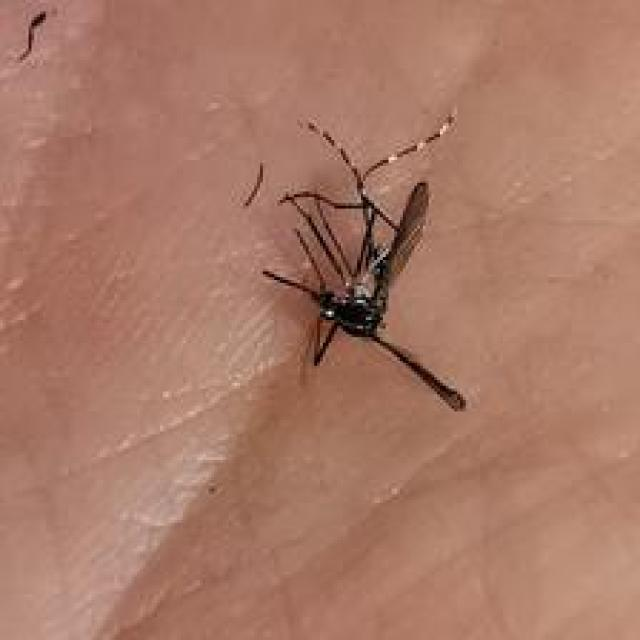Aedes albopictus: (250, 107, 470, 413)
